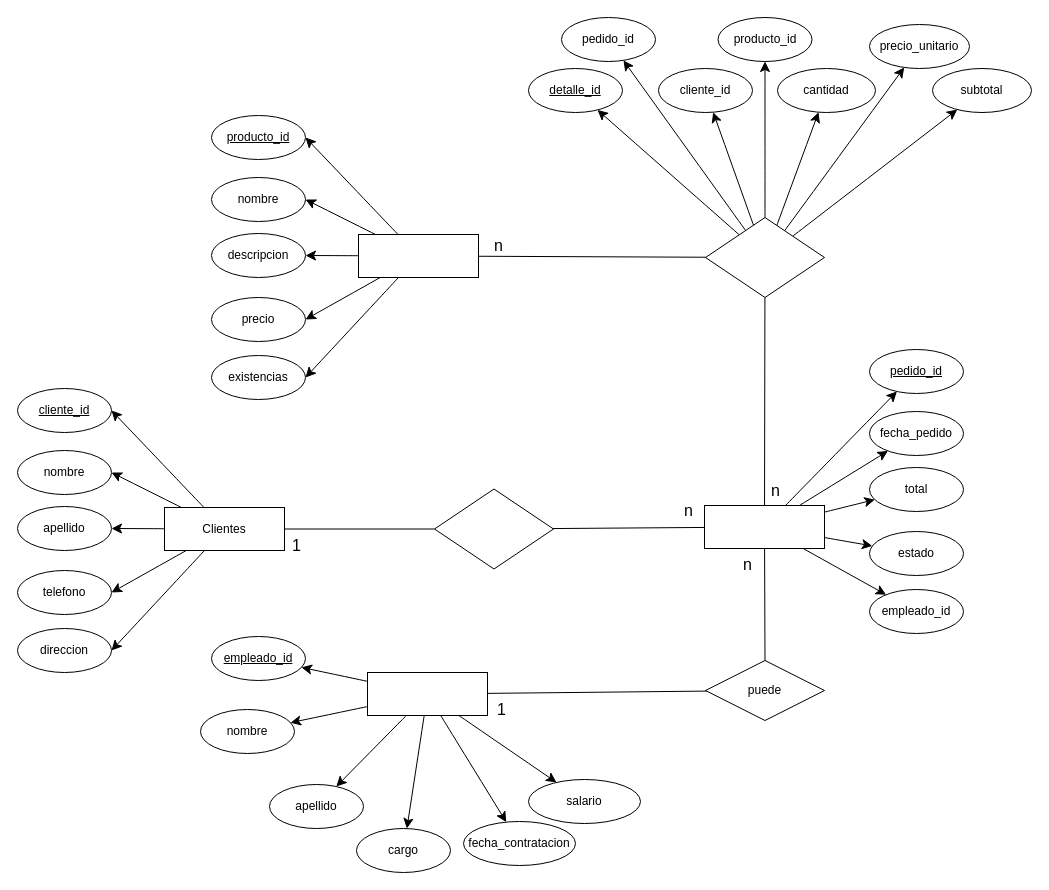
Some shapes in this 1049 by 890 pixel diagram are drawn without their labels. The box of each missing label's shape, as (x1, y1, x2, y2) in pixels:
Detalles_pedidos: (704, 216, 824, 298)
Empleados: (366, 672, 488, 716)
Hacem: (434, 488, 554, 569)
Pedidos: (704, 504, 824, 548)
productos: (358, 234, 478, 278)
